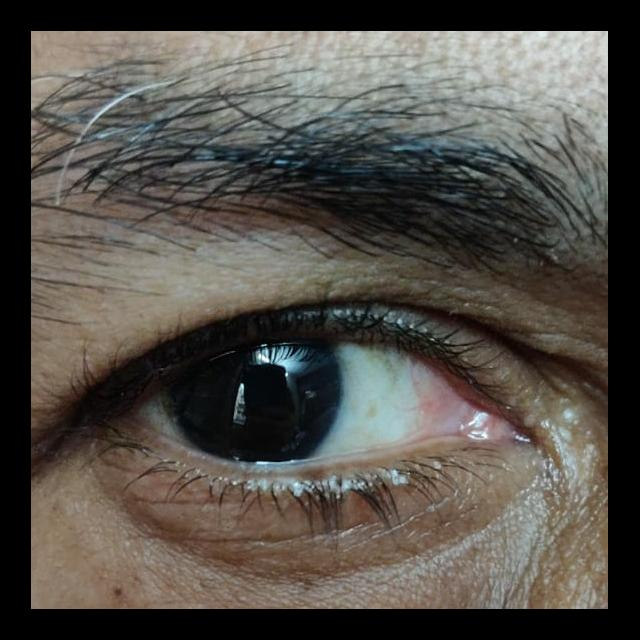eye: (124, 336, 465, 465)
iris: (165, 344, 344, 461)
